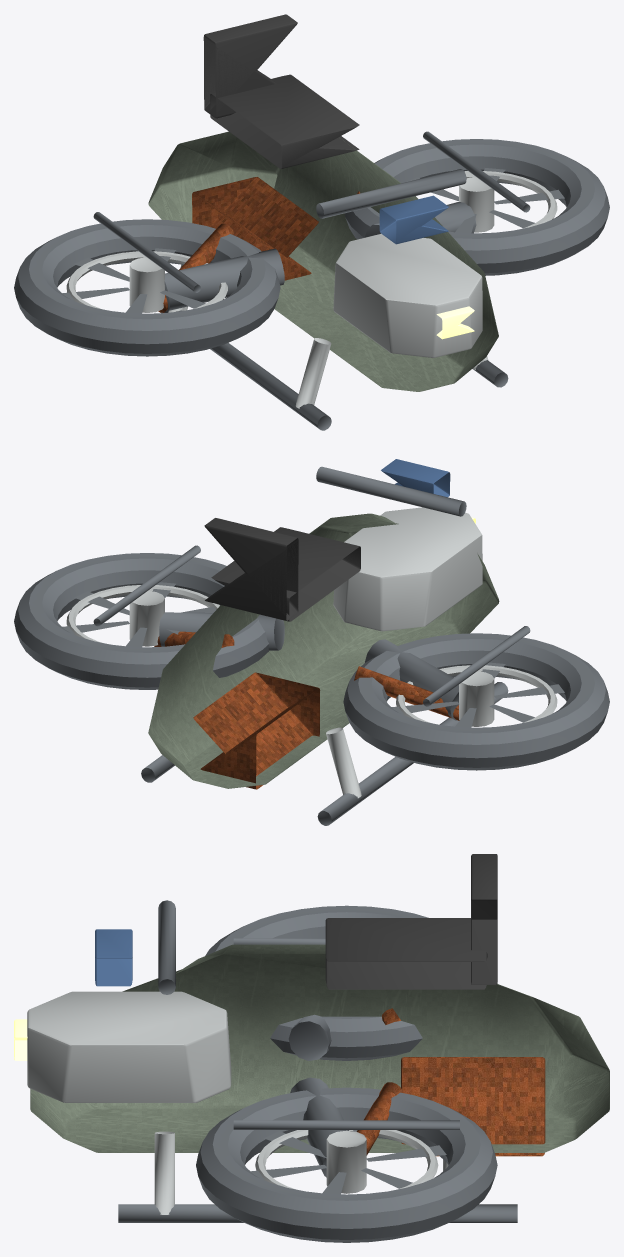
The model's file is rastro_av4.glb.
3 renders of one model, top to bottom at view 1: azimuth 30°, elevation 25°; view 2: azimuth 150°, elevation 25°; view 3: azimuth 270°, elevation 25°, orthographic. The views are drawn at different scales.
Parts seen in each view (by area): view 1: rastro_av4_steel_dark, rastro_av4_paint_olive, rastro_av4_metal_brushed, rastro_av4_rubber_v, rastro_av4_rust_gen, rastro_av4_solar, rastro_av4_ROTOR_helice_-1, rastro_av4, rastro_av4_lamp_amber; view 2: rastro_av4_steel_dark, rastro_av4_paint_olive, rastro_av4_metal_brushed, rastro_av4_rust_gen, rastro_av4_rubber_v, rastro_av4_solar, rastro_av4_ROTOR_helice_-1, rastro_av4; view 3: rastro_av4_paint_olive, rastro_av4_steel_dark, rastro_av4_metal_brushed, rastro_av4_rubber_v, rastro_av4_rust_gen, rastro_av4_solar, rastro_av4, rastro_av4_lamp_amber.
Boxes of the visible parts, x1=… form: rastro_av4_steel_dark: x1=14, y1=131, x2=609, y2=430; rastro_av4_paint_olive: x1=148, y1=131, x2=498, y2=391; rastro_av4_metal_brushed: x1=66, y1=171, x2=557, y2=408; rastro_av4_rubber_v: x1=203, y1=14, x2=359, y2=168; rastro_av4_rust_gen: x1=158, y1=177, x2=359, y2=312; rastro_av4_solar: x1=379, y1=195, x2=448, y2=244; rastro_av4_ROTOR_helice_-1: x1=62, y1=248, x2=205, y2=313; rastro_av4: x1=407, y1=168, x2=564, y2=232; rastro_av4_lamp_amber: x1=436, y1=306, x2=474, y2=339; rastro_av4_steel_dark: x1=14, y1=466, x2=609, y2=825; rastro_av4_paint_olive: x1=148, y1=513, x2=499, y2=788; rastro_av4_metal_brushed: x1=66, y1=507, x2=557, y2=798; rastro_av4_rust_gen: x1=154, y1=631, x2=459, y2=789; rastro_av4_rubber_v: x1=204, y1=518, x2=360, y2=621; rastro_av4_solar: x1=381, y1=459, x2=450, y2=497; rastro_av4_ROTOR_helice_-1: x1=392, y1=662, x2=564, y2=727; rastro_av4: x1=62, y1=582, x2=215, y2=646; rastro_av4_paint_olive: x1=30, y1=944, x2=609, y2=1152; rastro_av4_steel_dark: x1=118, y1=900, x2=517, y2=1242; rastro_av4_metal_brushed: x1=27, y1=991, x2=448, y2=1214; rastro_av4_rubber_v: x1=325, y1=854, x2=497, y2=989; rastro_av4_rust_gen: x1=357, y1=1008, x2=545, y2=1156; rastro_av4_solar: x1=95, y1=929, x2=132, y2=986; rastro_av4: x1=251, y1=1130, x2=446, y2=1194; rastro_av4_lamp_amber: x1=14, y1=1019, x2=27, y2=1060.
Size of the model in its own units: 3.3 by 1.48 by 2.69.
Materials: 7 (2 with a texture image).
